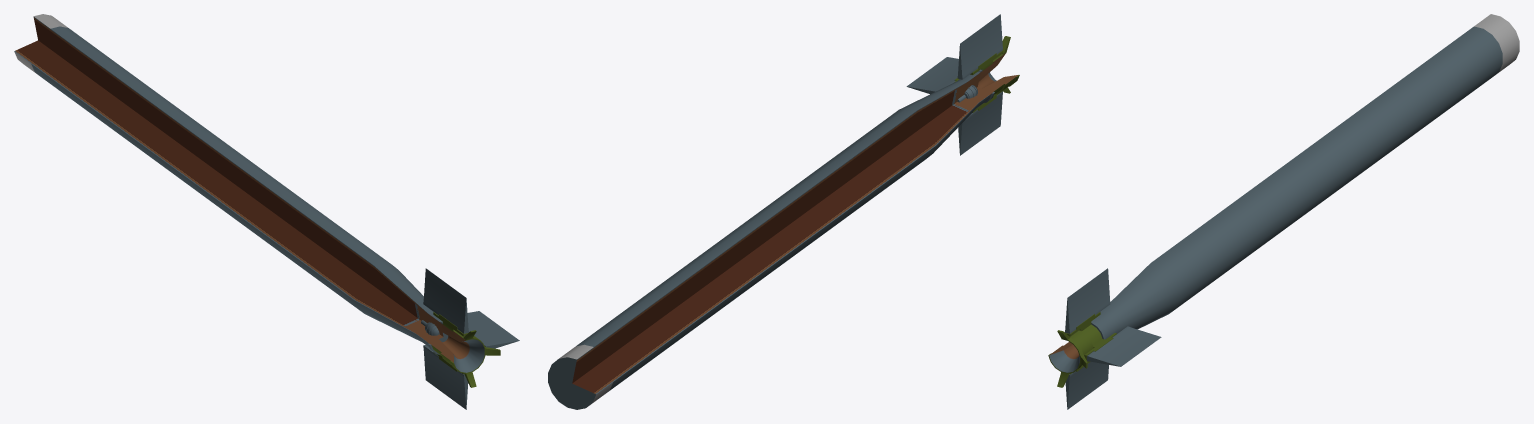
Rendered from ЗУР-ДУ-МД_Р.fbx.
3 views of the same model, side by side, from view 1: azimuth 30°, elevation 25°; view 2: azimuth 150°, elevation 25°; view 3: azimuth 330°, elevation 25° (orthographic).
Visible parts, largest first — view 1: Circle.001; view 2: Circle.001; view 3: Circle.001.
Boxes of the visible parts, <box> form: Circle.001: <box>14,14,519,409</box>; Circle.001: <box>548,14,1019,409</box>; Circle.001: <box>1048,14,1519,409</box>.
Bounding box in the file's own units: 93.88 × 130 × 913.
2 materials, 1 textured.
